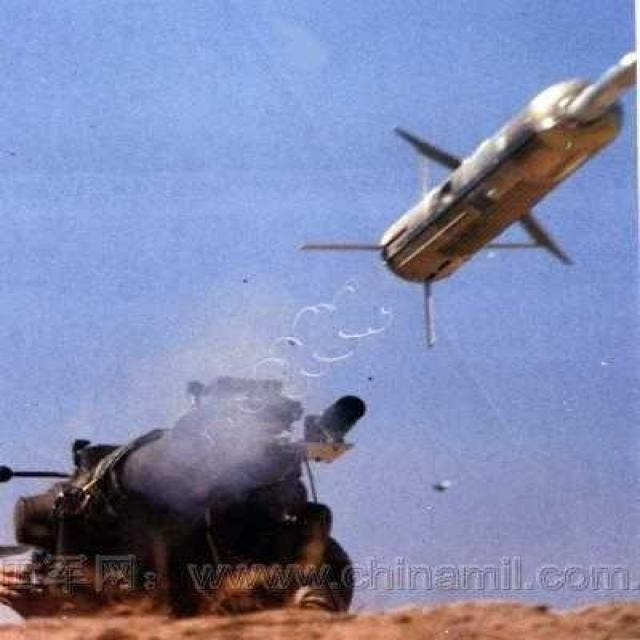missile: (298, 48, 640, 334)
